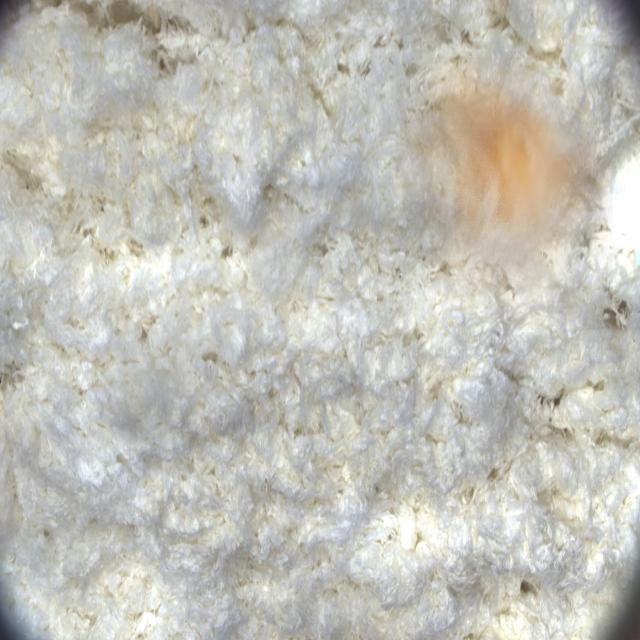dust: (396, 57, 613, 330)
